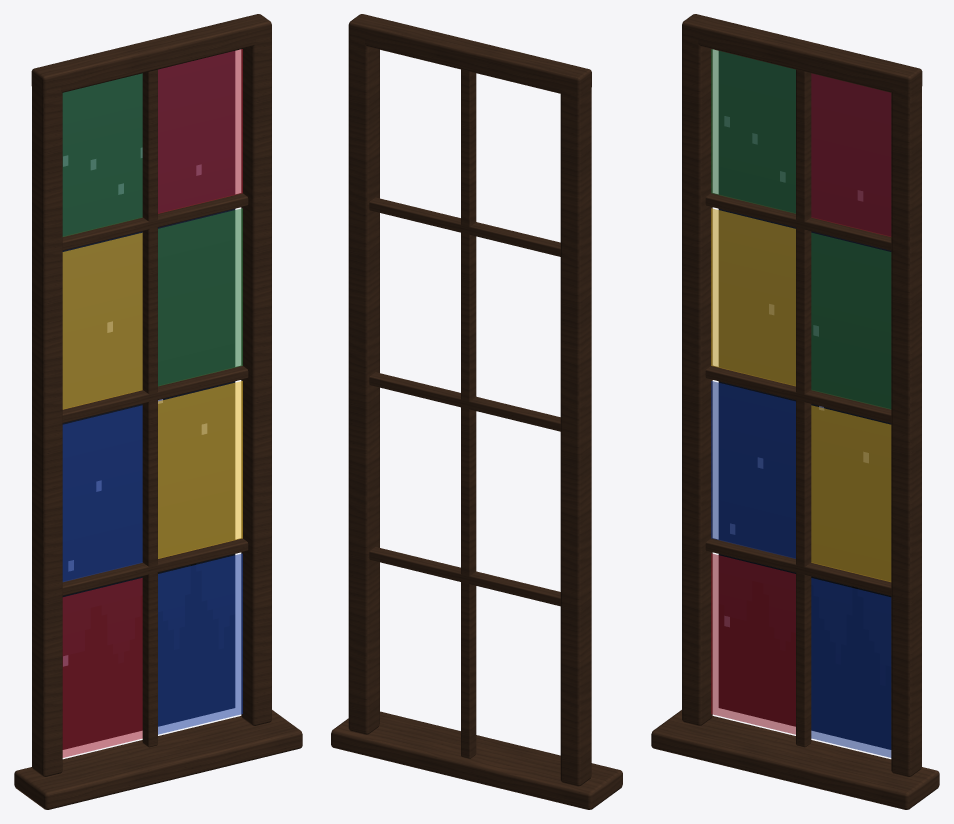
Rendered from window_v4.glb.
3 views of the same model, side by side, from view 1: azimuth 30°, elevation 25°; view 2: azimuth 150°, elevation 25°; view 3: azimuth 330°, elevation 25° (orthographic).
Parts seen in each view (by area): view 1: window_v4; view 2: window_v4; view 3: window_v4.
Part boxes in pixels (x1=…): window_v4: x1=14, y1=14, x2=302, y2=809; window_v4: x1=331, y1=14, x2=622, y2=809; window_v4: x1=651, y1=14, x2=939, y2=809.
Bounding box in the file's own units: 0.9011 × 2.4 × 0.2002.
6 materials, 2 textured.
